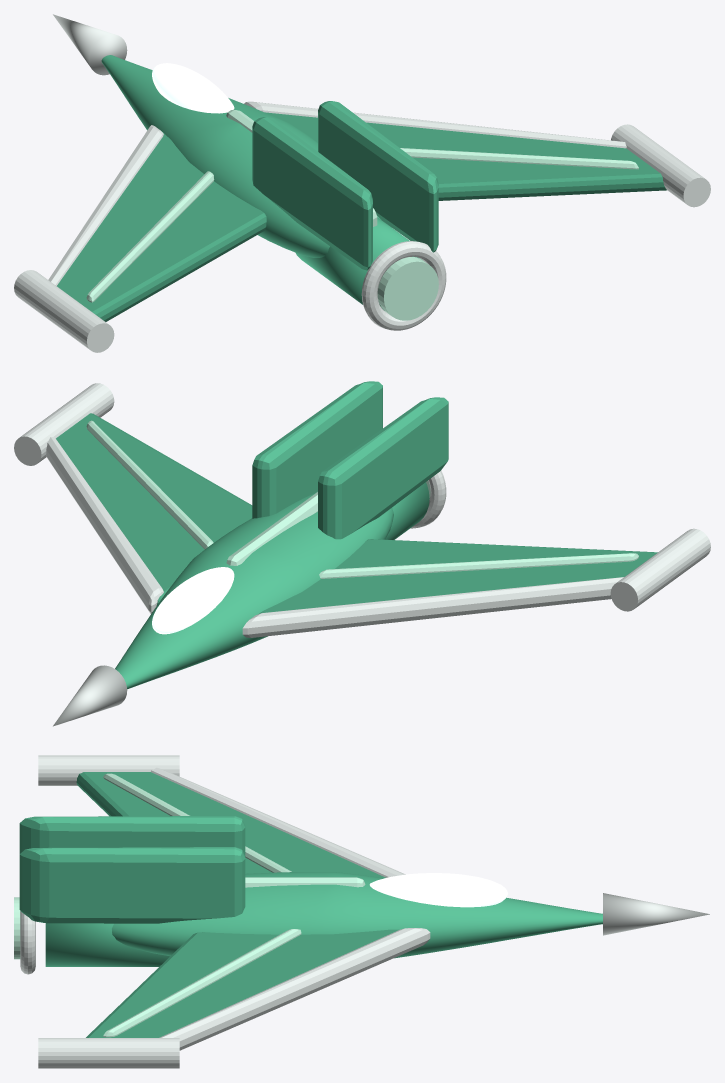
File: SM_Ship_Ibis.fbx
3 views of the same model, one above another, from view 1: azimuth 30°, elevation 25°; view 2: azimuth 150°, elevation 25°; view 3: azimuth 270°, elevation 25° (orthographic). The views are drawn at different scales.
Parts seen in each view (by area): view 1: SM_Ship_Ibis; view 2: SM_Ship_Ibis; view 3: SM_Ship_Ibis.
Boxes of the visible parts, left/top/right/bottom form: SM_Ship_Ibis: left=14, top=14, right=710, bottom=352; SM_Ship_Ibis: left=14, top=381, right=710, bottom=726; SM_Ship_Ibis: left=14, top=755, right=709, bottom=1068.
Bounding box in the file's own units: 2.72 × 0.59 × 2.71.
